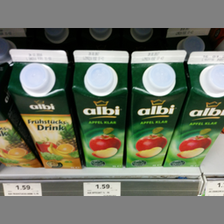juice: (8, 47, 82, 168), (125, 51, 188, 168), (162, 51, 224, 168), (70, 49, 131, 167)
